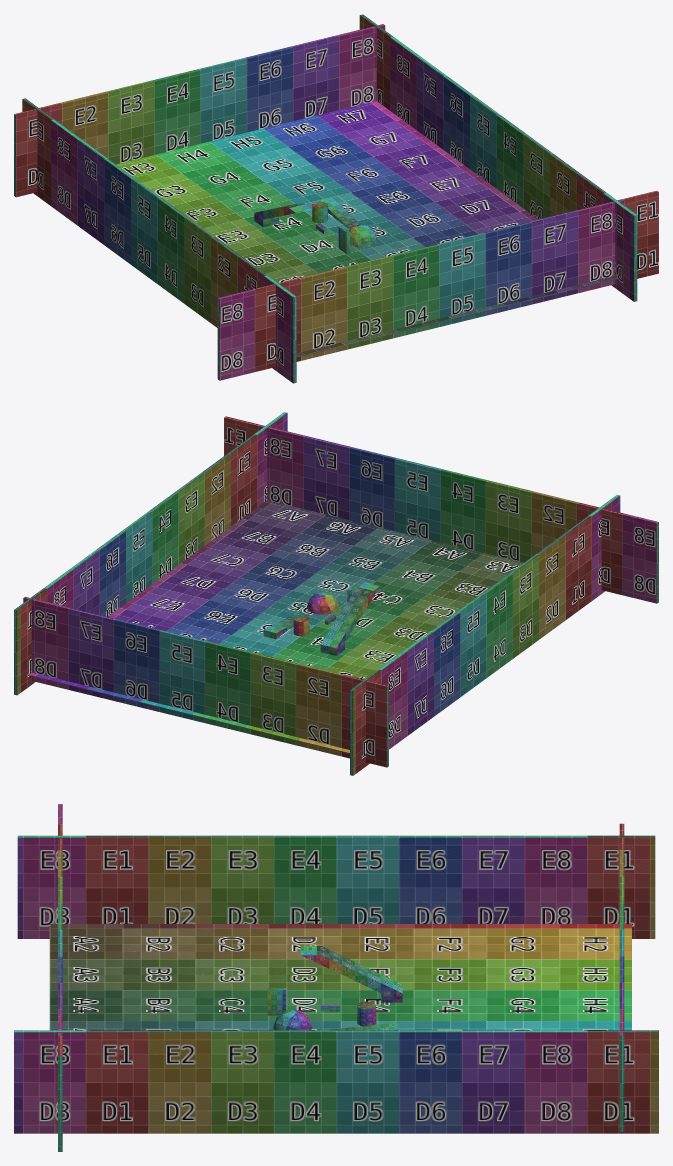
File: scene_building.gltf
The picture shows the model from 3 angles, top to bottom: view 1: azimuth 30°, elevation 25°; view 2: azimuth 150°, elevation 25°; view 3: azimuth 270°, elevation 25°; orthographic projection. The views are drawn at different scales.
Parts seen in each view (by area): view 1: Cube, longboi.004, longboi.003, longboi.002, longboi.001, Cube.002, Icosphere; view 2: Cube, longboi.004, longboi.003, longboi.002, longboi.001, Cube.002, Icosphere; view 3: longboi.001, Cube, longboi.002, Cube.002, longboi.003, longboi.004, Icosphere, longboi.
Boxes of the visible parts, <box> form: Cube: <box>116,101,618,357</box>; longboi.004: <box>217,190,658,380</box>; longboi.003: <box>14,24,385,197</box>; longboi.002: <box>22,98,296,383</box>; longboi.001: <box>359,14,637,301</box>; Cube.002: <box>254,202,311,227</box>; Icosphere: <box>348,224,377,247</box>; Cube: <box>29,500,523,753</box>; longboi.004: <box>224,416,658,603</box>; longboi.003: <box>23,596,388,767</box>; longboi.002: <box>350,495,620,775</box>; longboi.001: <box>14,412,287,695</box>; Cube.002: <box>320,582,380,655</box>; Icosphere: <box>307,592,338,614</box>; longboi.001: <box>14,1030,658,1133</box>; Cube: <box>49,924,631,1030</box>; longboi.002: <box>17,835,655,938</box>; Cube.002: <box>300,946,402,1002</box>; longboi.003: <box>619,823,624,1131</box>; longboi.004: <box>58,804,62,1151</box>; Icosphere: <box>273,1010,312,1030</box>; longboi: <box>267,988,286,1015</box>.
Size of the model in its own units: 1480 by 287 by 1601.
Materials: 1 (1 with a texture image).
